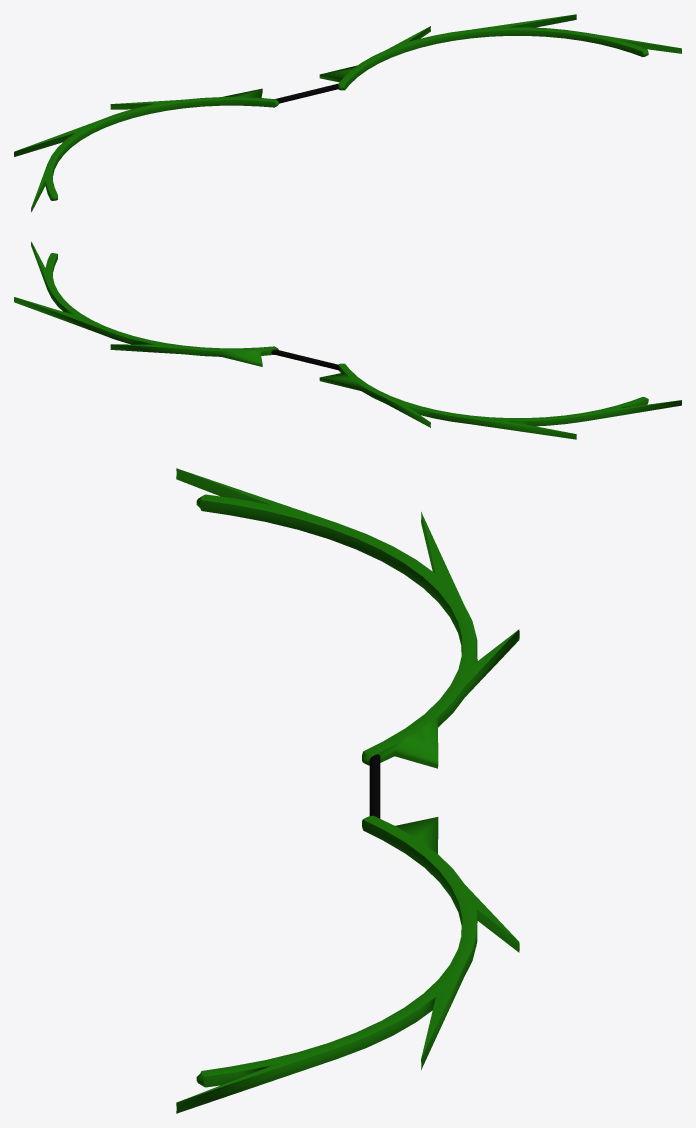
File: Bow.FBX
3 renders of one model, top to bottom at view 1: azimuth 30°, elevation 25°; view 2: azimuth 150°, elevation 25°; view 3: azimuth 270°, elevation 25°, orthographic. The views are drawn at different scales.
Visible parts, largest first — view 1: Cylinder001; view 2: Cylinder001; view 3: Cylinder001.
Part boxes in pixels (<box>): Cylinder001: <box>14,14,681,212</box>; Cylinder001: <box>14,241,681,439</box>; Cylinder001: <box>176,468,519,1113</box>.
Size of the model in its own units: 27.18 by 0.2456 by 6.21.
